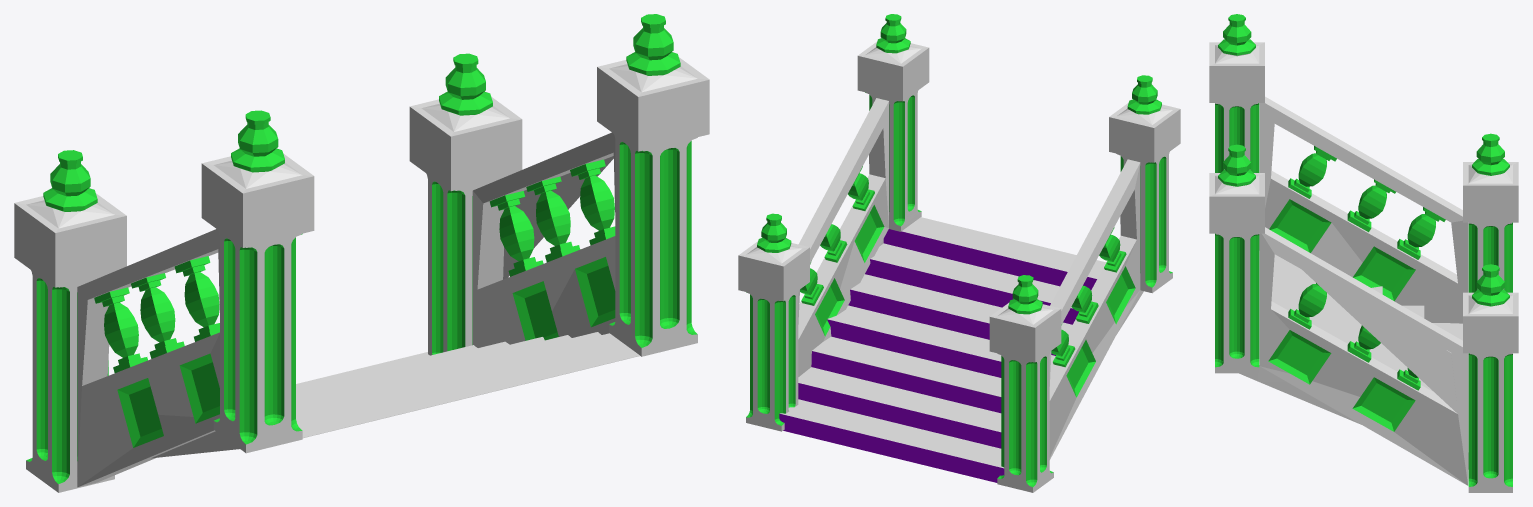
The model's file is Eacaleras.fbx.
3 renders of one model, left to right at view 1: azimuth 30°, elevation 25°; view 2: azimuth 150°, elevation 25°; view 3: azimuth 270°, elevation 25°, orthographic. The views are drawn at different scales.
Visible parts, largest first — view 1: Cube.001, Plane; view 2: Cube.001, Plane; view 3: Cube.001, Plane.
Boxes of the visible parts, x1,y1,x2,y2 form: Cube.001: (14, 14, 709, 492); Plane: (151, 332, 639, 458); Cube.001: (738, 14, 1180, 492); Plane: (779, 217, 1143, 482); Cube.001: (1209, 14, 1518, 492); Plane: (1239, 234, 1468, 469).
Bounding box in the file's own units: 1653 × 1685 × 1403.
